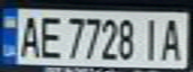2: (100, 15, 121, 61)
7: (81, 15, 103, 61), (63, 13, 84, 60)
8: (115, 15, 139, 62)
A: (157, 15, 187, 62), (15, 11, 42, 58)
E: (36, 12, 63, 60)
I: (139, 15, 163, 62)
